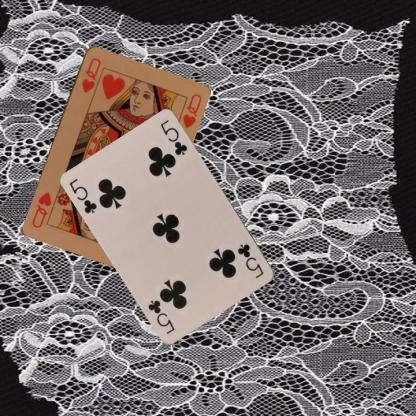5c: (67, 176, 99, 216), (235, 241, 265, 280)
Qh: (78, 55, 102, 94)
